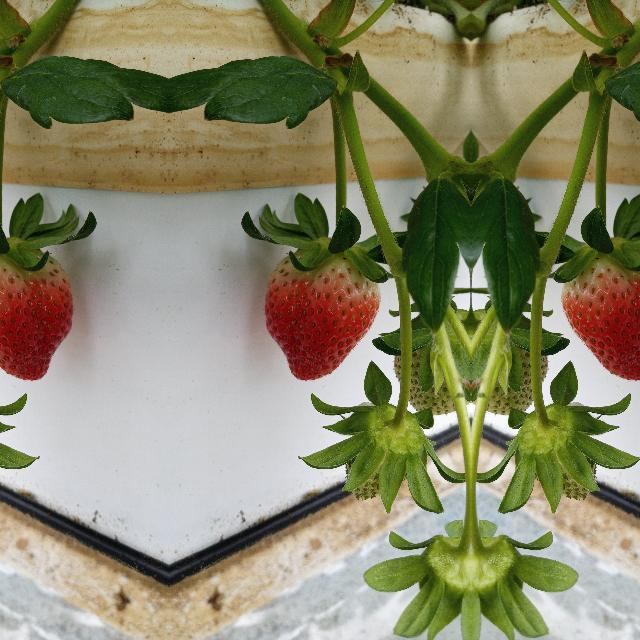Health_75: (263, 248, 381, 382), (560, 248, 640, 381), (0, 248, 73, 381)
